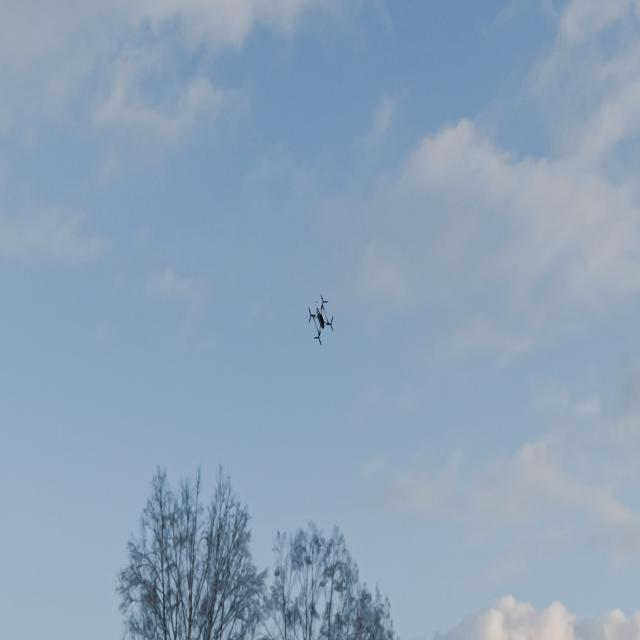drone: (304, 289, 339, 350)
